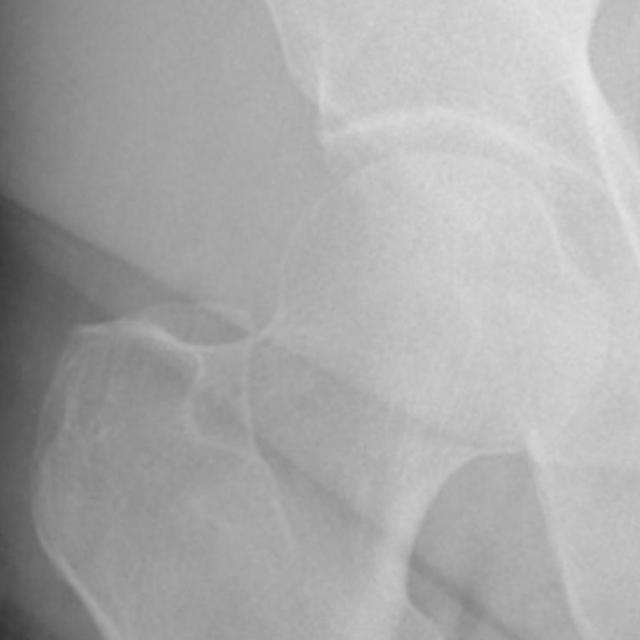Fitted_femural_head: (345, 145, 432, 345)
